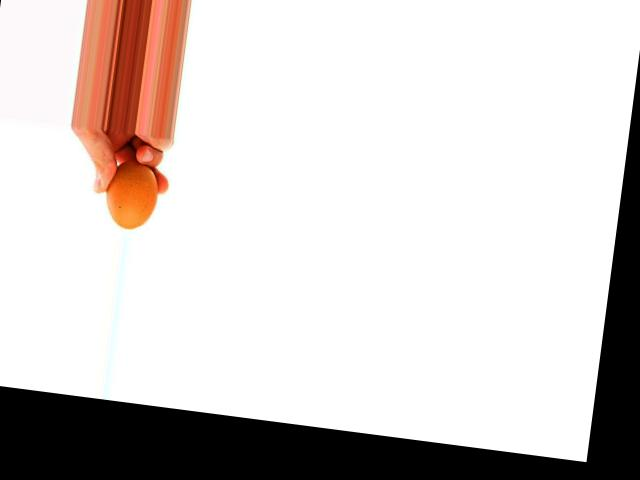egg: (102, 159, 162, 232)
